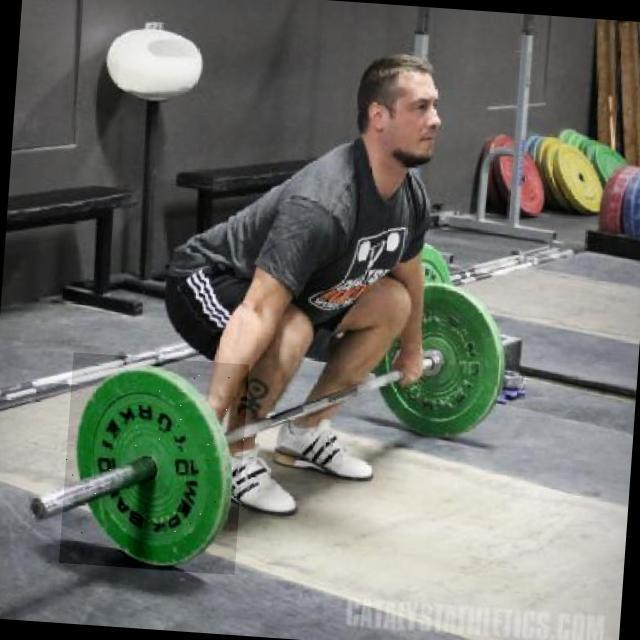barbell: (60, 353, 250, 576)
